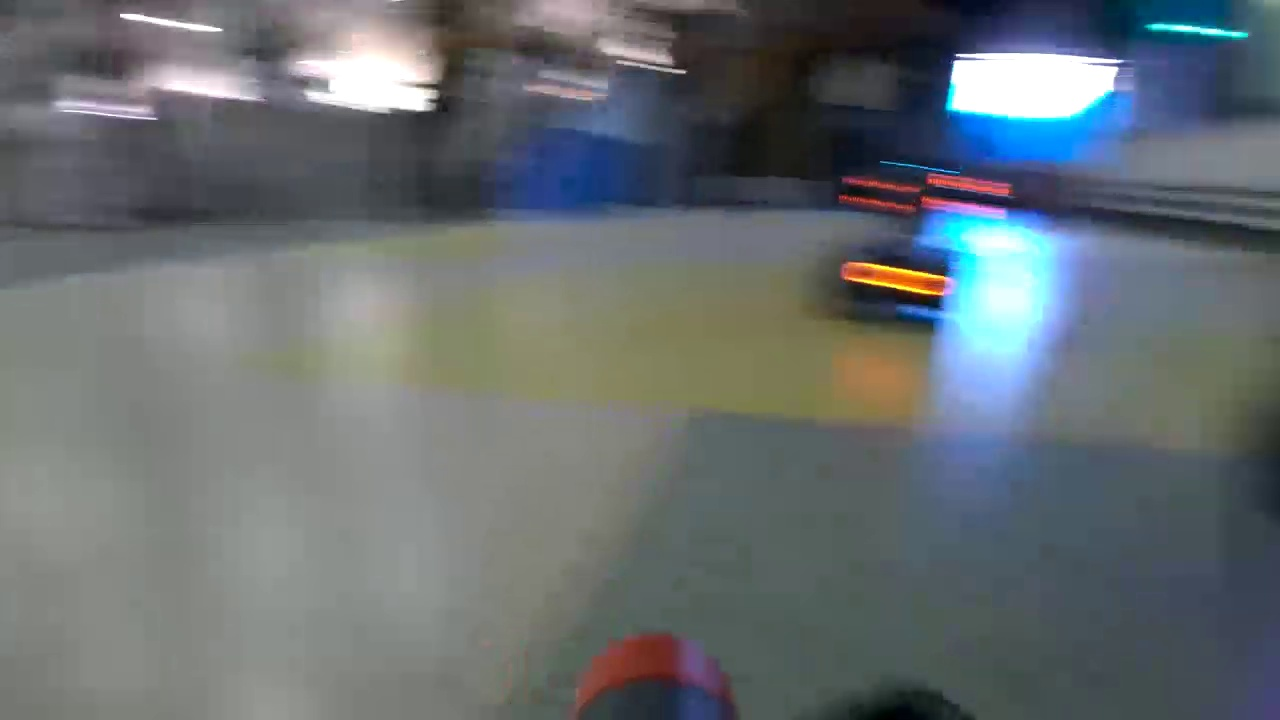robot: (842, 158, 1010, 318)
